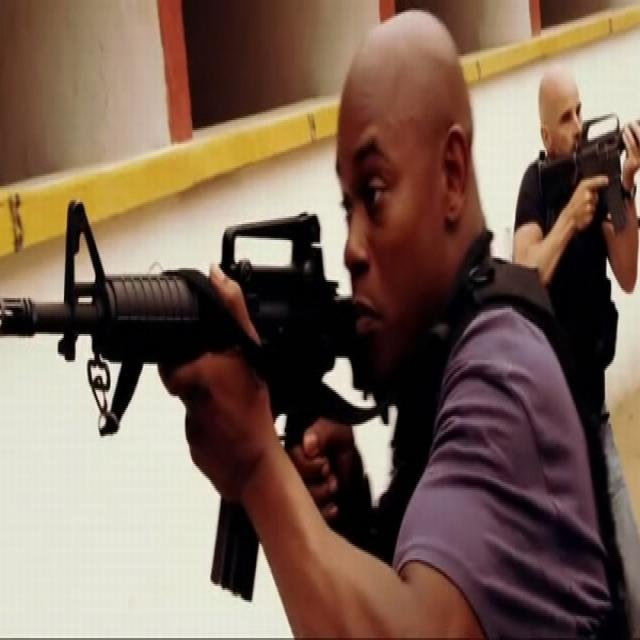rifle: (1, 199, 360, 601), (535, 114, 639, 239)
